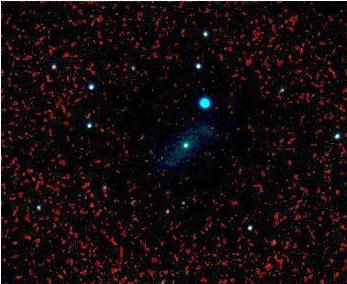star: (254, 228, 284, 258)
